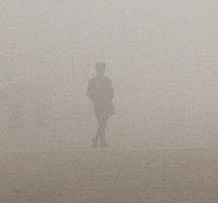person: (85, 59, 118, 150)
